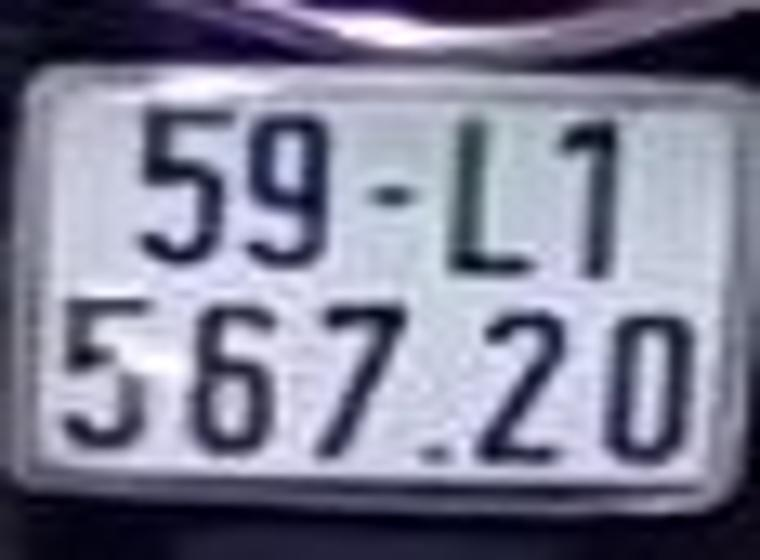-: (370, 185, 410, 204)
.: (424, 447, 445, 462)
0: (606, 314, 688, 464)
1: (563, 117, 617, 275)
2: (485, 307, 556, 466)
5: (139, 107, 219, 267), (68, 294, 146, 445)
6: (194, 303, 274, 451)
7: (319, 301, 401, 466)
9: (244, 119, 328, 267)
L: (450, 115, 531, 277)
